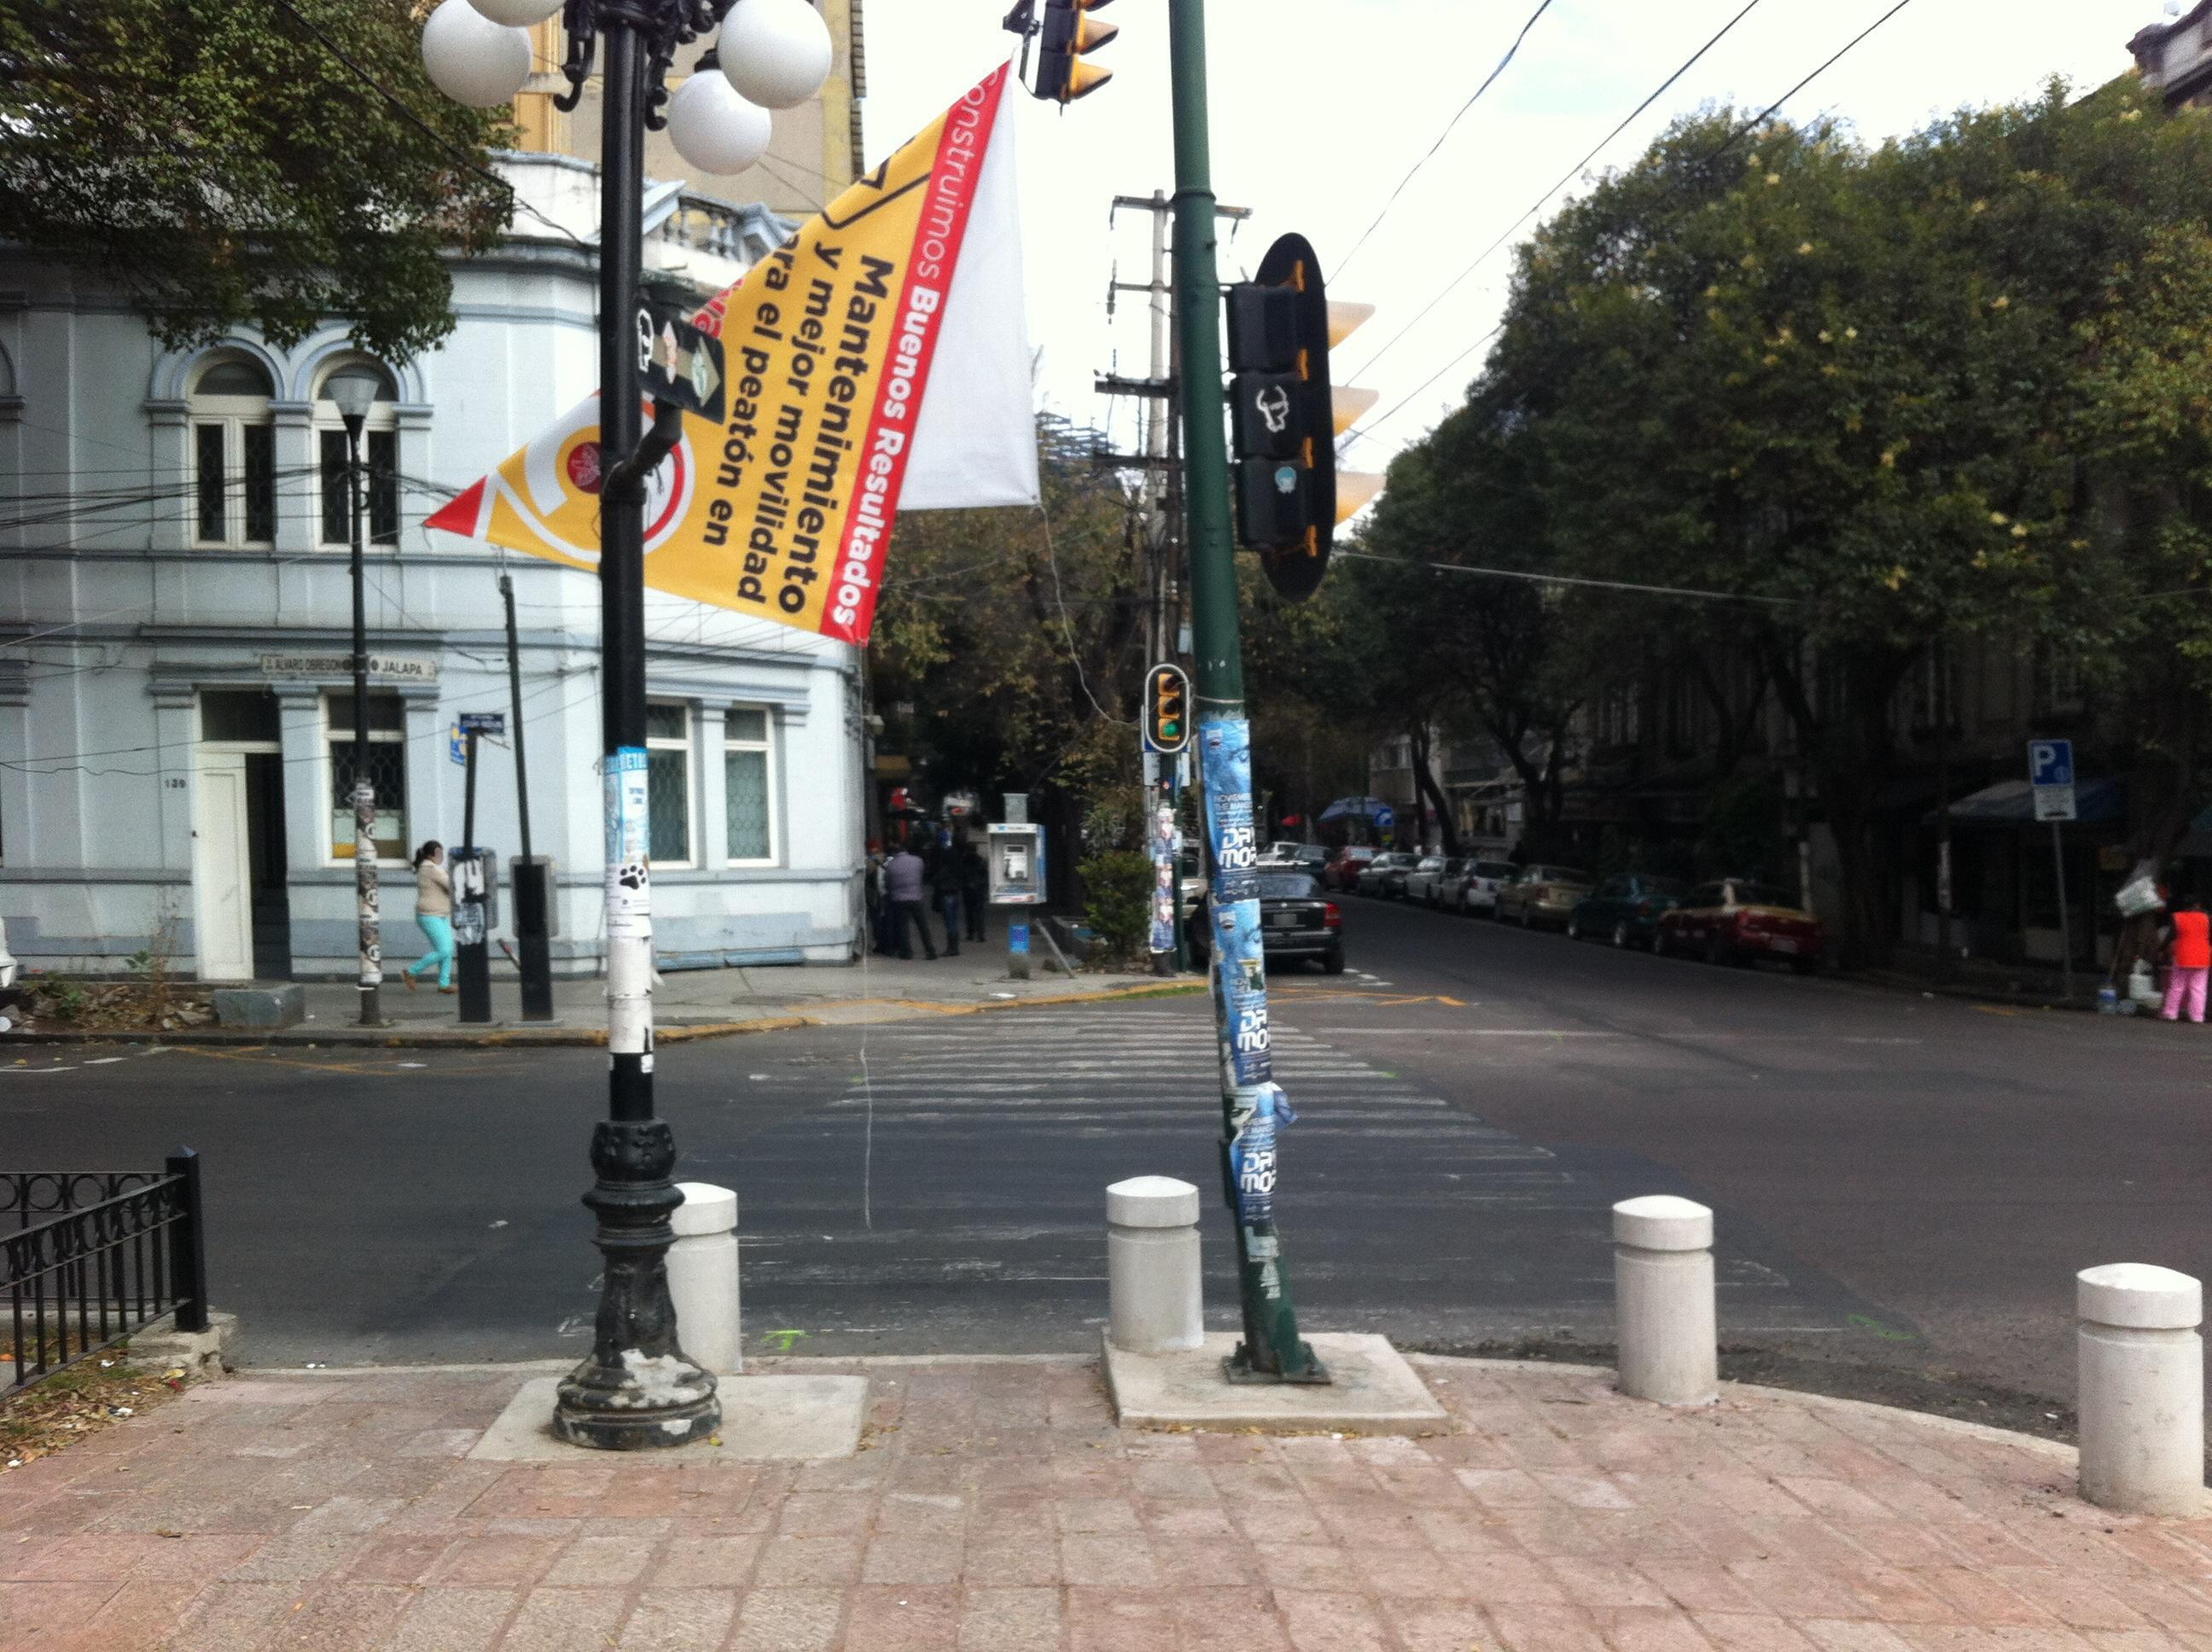vinyl banner: (389, 35, 1114, 623)
